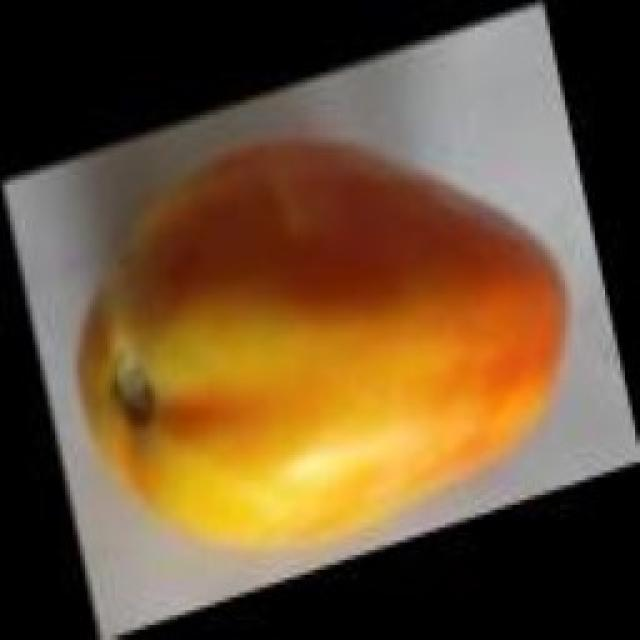unripe: (162, 166, 373, 502)
